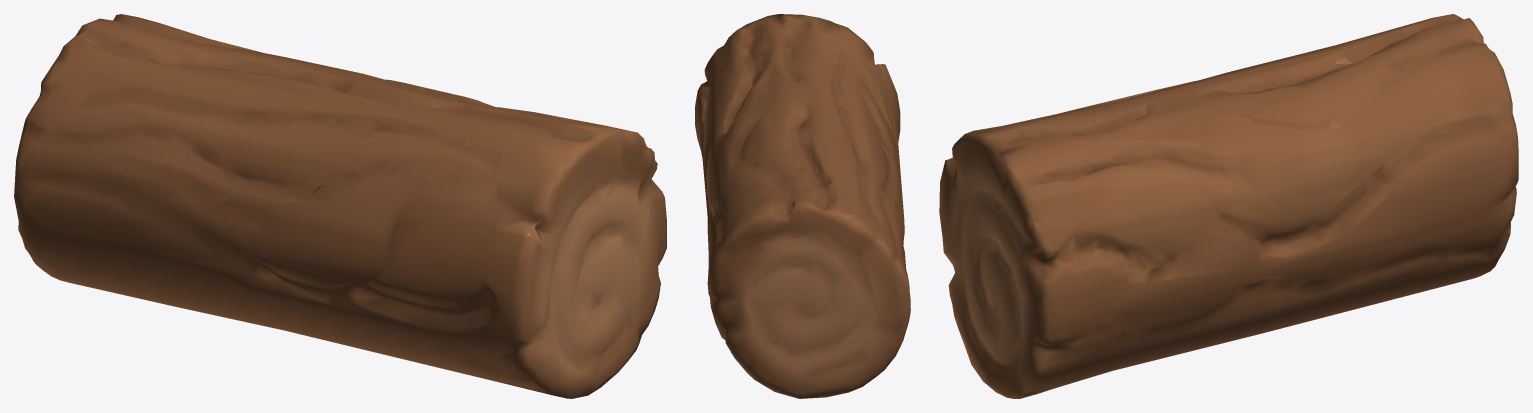
Rendered from LogWood.fbx.
3 views of the same model, side by side, from view 1: azimuth 30°, elevation 25°; view 2: azimuth 150°, elevation 25°; view 3: azimuth 270°, elevation 25° (orthographic). The views are drawn at different scales.
Visible parts, largest first — view 1: Cylinder.007_Cylinder.016; view 2: Cylinder.007_Cylinder.016; view 3: Cylinder.007_Cylinder.016.
Boxes of the visible parts, <box> form: Cylinder.007_Cylinder.016: <box>14,14,666,398</box>; Cylinder.007_Cylinder.016: <box>695,14,910,398</box>; Cylinder.007_Cylinder.016: <box>939,14,1518,398</box>.
Size of the model in its own units: 19.33 by 10.13 by 21.6.
